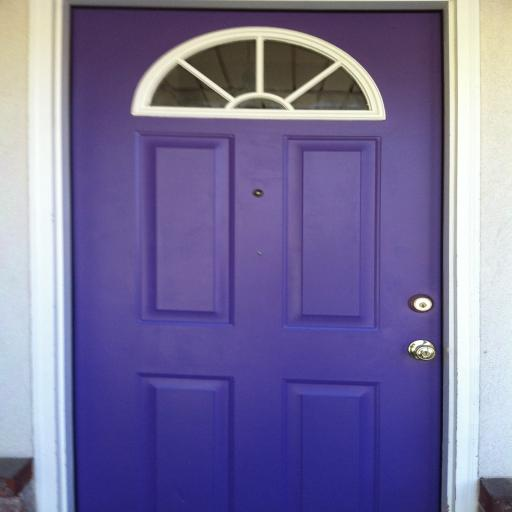Door: (66, 5, 444, 512)
